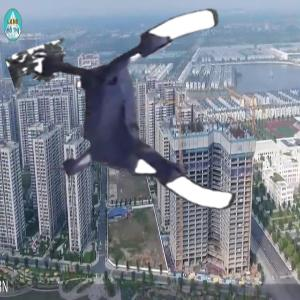drone: (34, 17, 253, 236)
